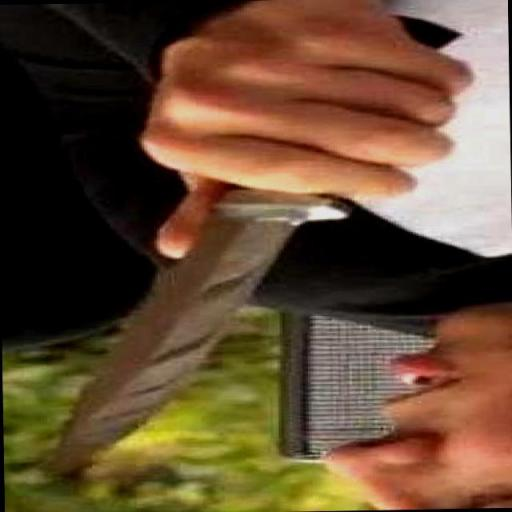knife: (37, 4, 491, 486)
